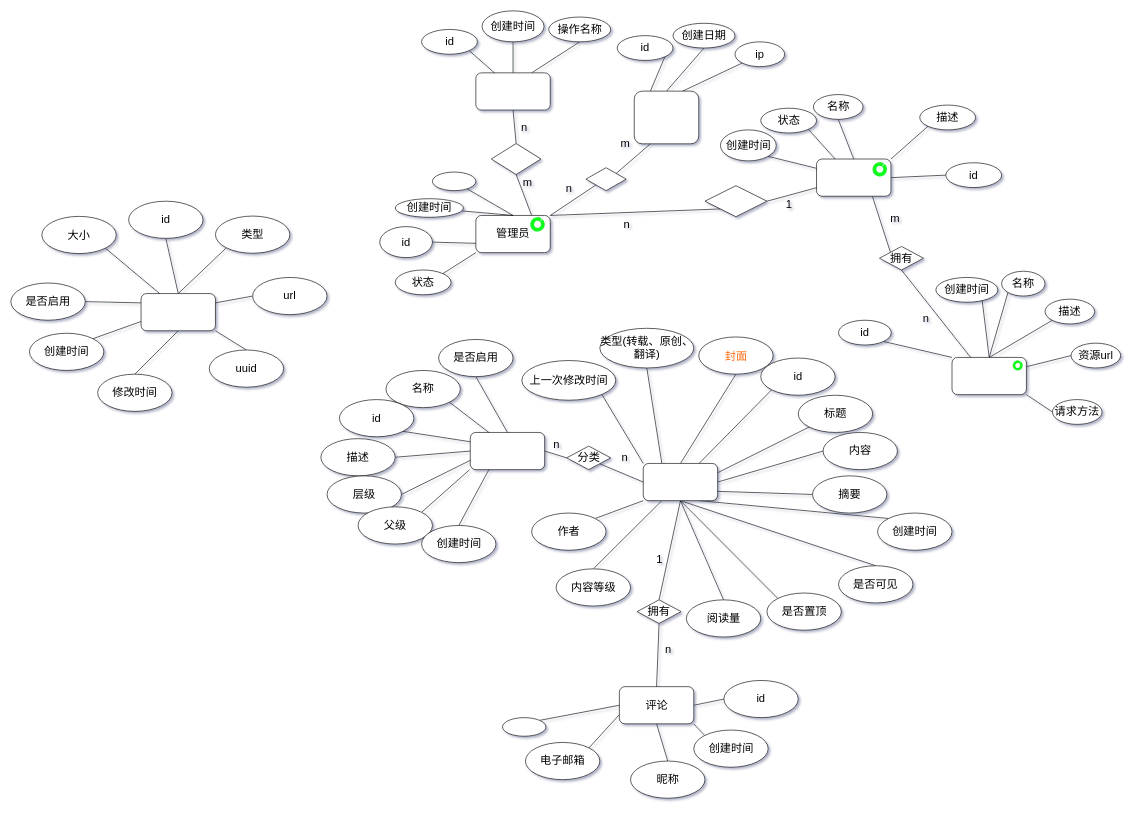
Some shapes in this 1135 by 813 pixel diagram are drawn without their labels. Here are the shapes that lost their labels. From the top down, the box of each, then its label:
(475, 72, 550, 110): 操作日志
(634, 91, 699, 144): 后台用户登录日志表
(491, 143, 541, 175): 生成
(585, 167, 626, 191): 创建
(816, 158, 891, 196): 角色
(432, 171, 476, 191): 头像
(704, 185, 767, 217): 属于
(140, 293, 215, 331): 文件
(951, 357, 1026, 395): 资源
(470, 432, 545, 470): 类别
(643, 463, 718, 501): 文章
(502, 717, 546, 736): 引用
